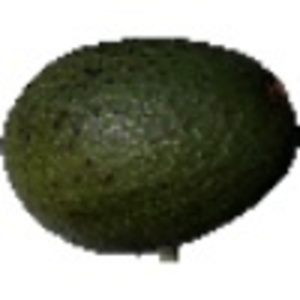abacate: (3, 34, 297, 248)
